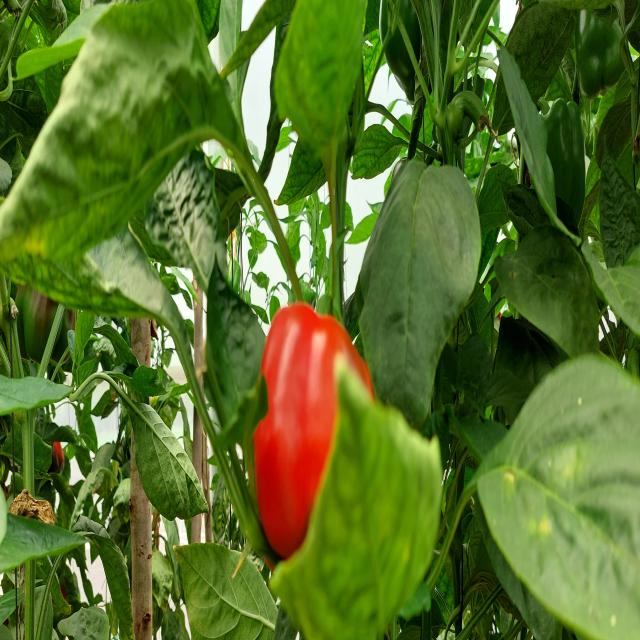Red-Ready-to-Harvest: (250, 312, 386, 571)
